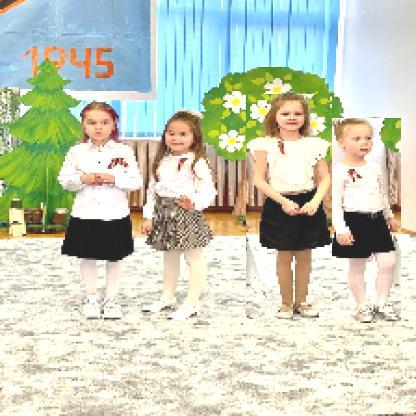child: (247, 95, 334, 321), (58, 102, 146, 323), (142, 112, 220, 322), (327, 119, 403, 325)
